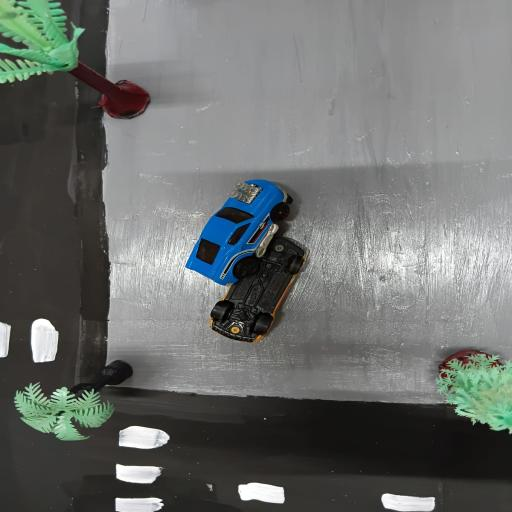car crash: (180, 176, 330, 345)
